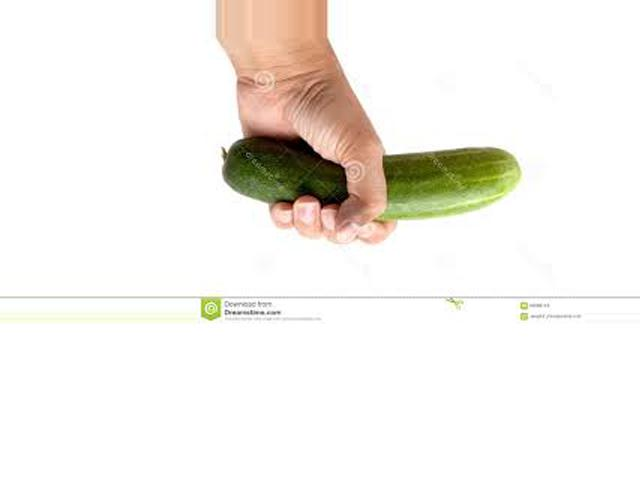cucumber: (224, 138, 520, 222)
